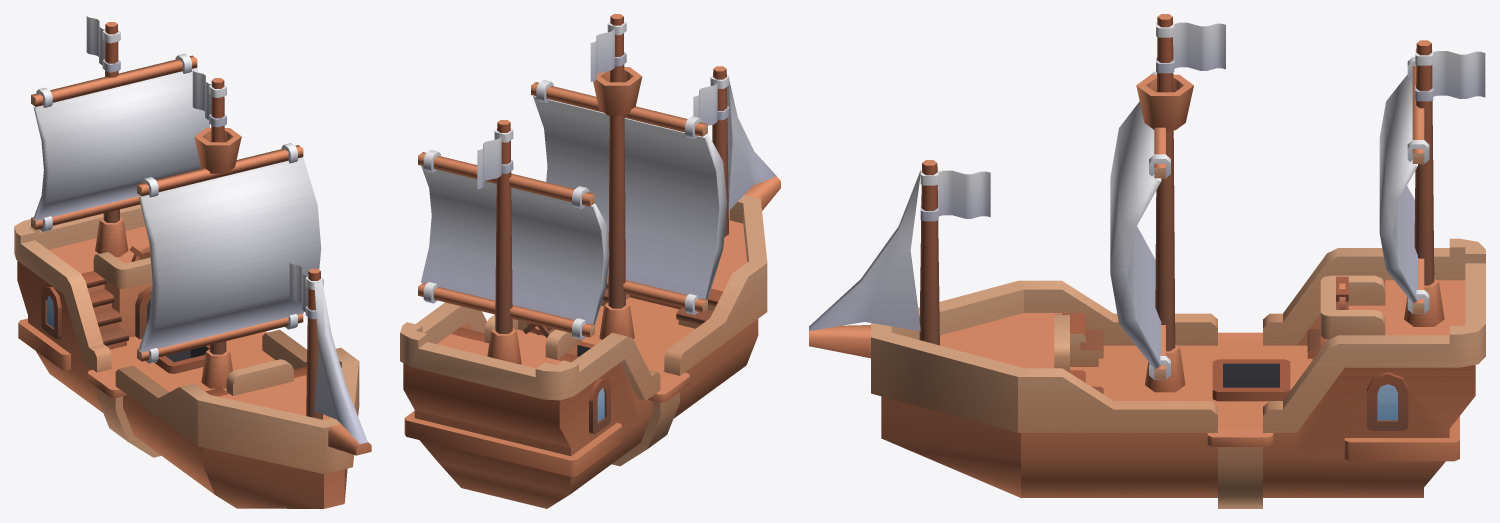
The model's file is Ship.glb.
3 views of the same model, side by side, from view 1: azimuth 30°, elevation 25°; view 2: azimuth 150°, elevation 25°; view 3: azimuth 270°, elevation 25° (orthographic). The views are drawn at different scales.
Parts seen in each view (by area): view 1: ship-large; view 2: ship-large; view 3: ship-large.
Part boxes in pixels (x1,y1,x2,y2): ship-large: (14,16,371,508); ship-large: (400,14,780,508); ship-large: (809,14,1485,508).
Size of the model in its own units: 4.8 by 9.96 by 13.1.
1 material, 1 textured.
